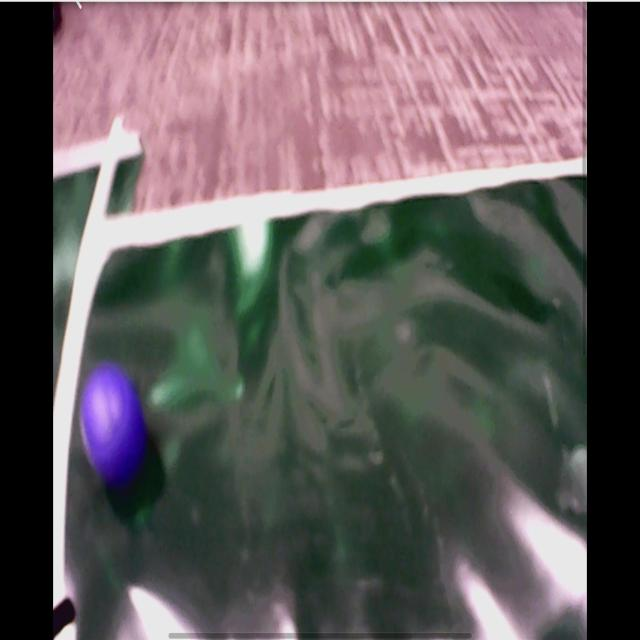ball: (80, 369, 146, 484)
